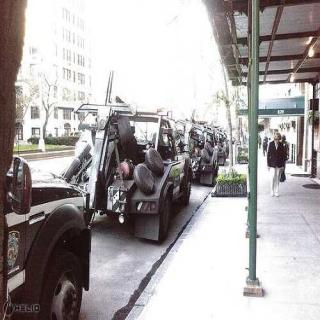Towing_truck: (71, 99, 195, 245)
